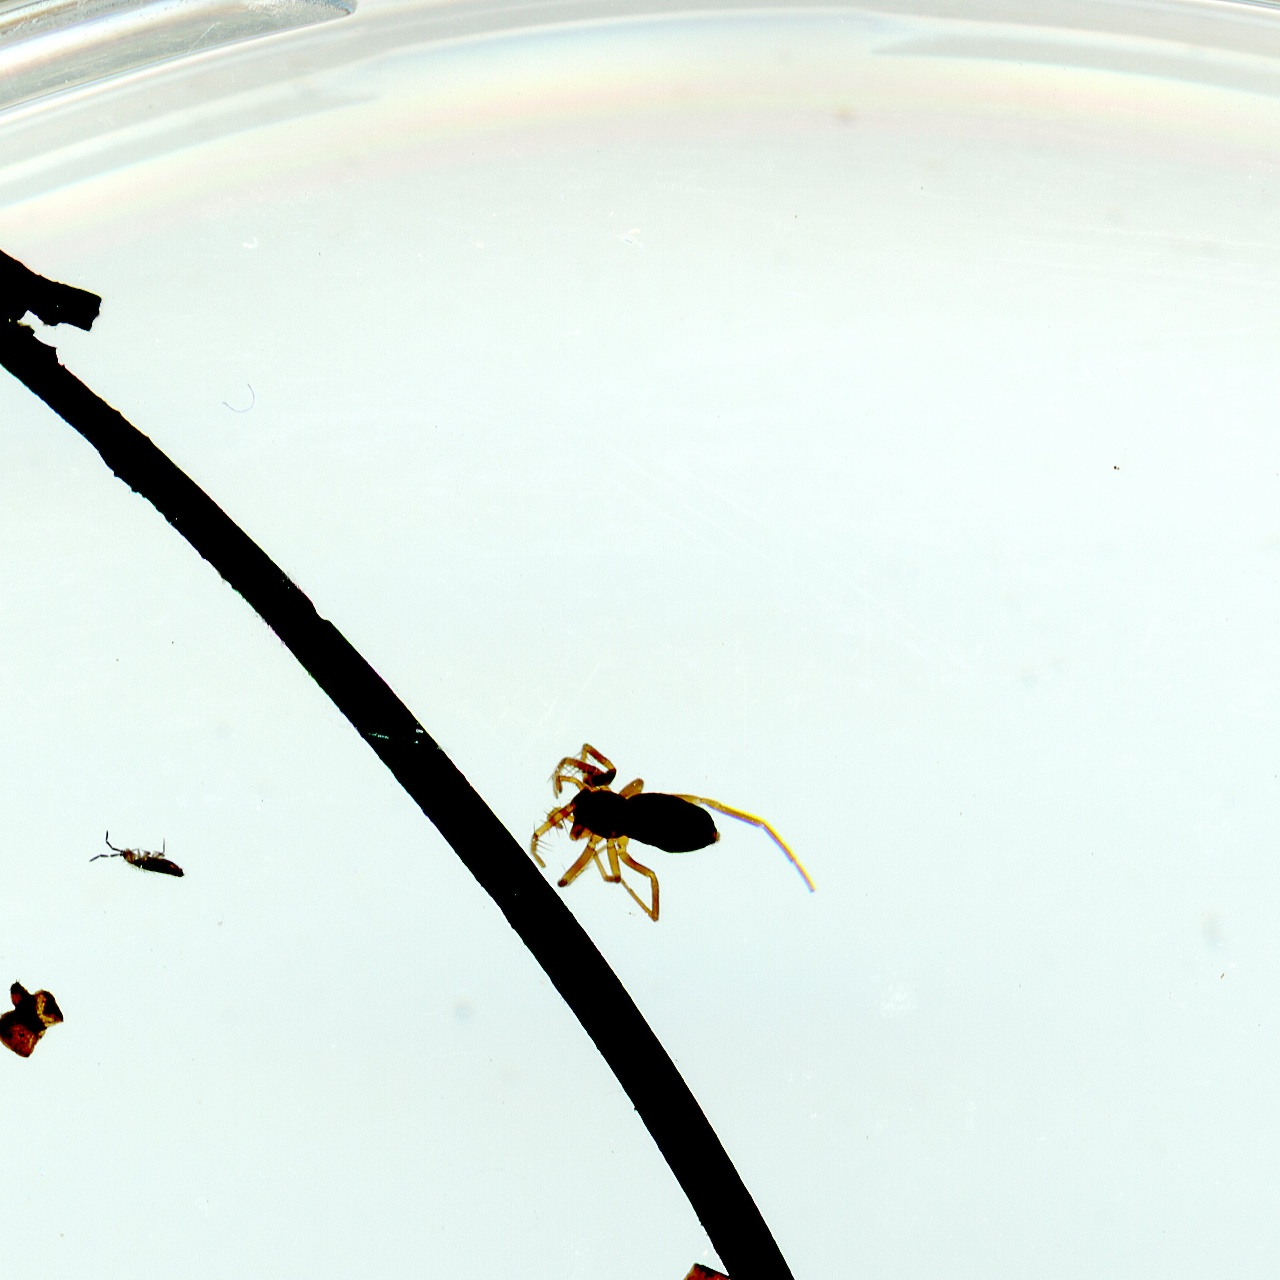arthropod: (510, 723, 835, 941), (73, 818, 210, 899)
